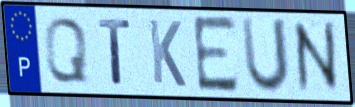E: (190, 14, 242, 95)
K: (146, 17, 189, 90)
N: (289, 19, 343, 96)
Q: (43, 15, 90, 86)
T: (96, 16, 133, 87)
U: (239, 15, 292, 97)
